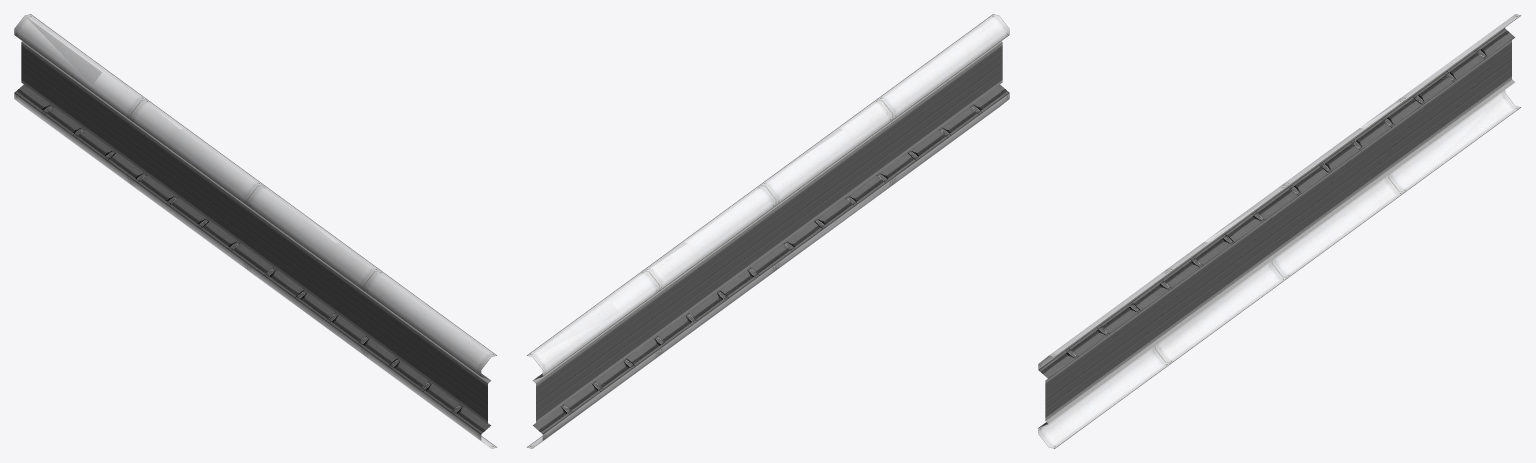
Rendered from Emb_Window_01_Rail.FBX.
The picture shows the model from 3 angles, left to right: view 1: azimuth 30°, elevation 25°; view 2: azimuth 150°, elevation 25°; view 3: azimuth 330°, elevation 25°; orthographic projection.
Visible parts, largest first — view 1: Emb_Window_01_Rail; view 2: Emb_Window_01_Rail; view 3: Emb_Window_01_Rail.
Boxes of the visible parts, <box> form: Emb_Window_01_Rail: <box>14,14,497,448</box>; Emb_Window_01_Rail: <box>526,14,1009,448</box>; Emb_Window_01_Rail: <box>1038,14,1521,448</box>.
Bounding box in the file's own units: 0.243 × 1.3 × 12.02.
